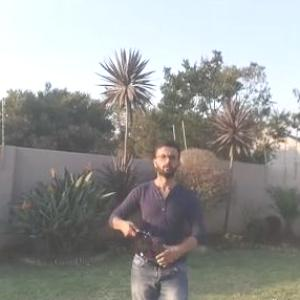follow: (104, 132, 212, 299)
